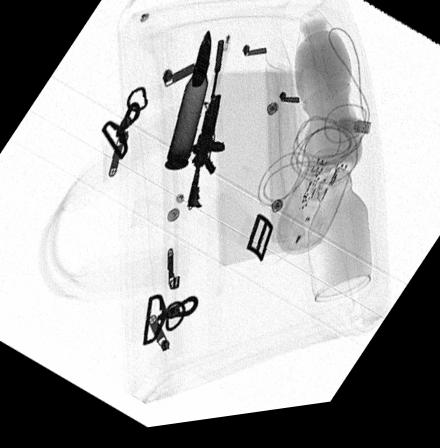Bullet: (164, 35, 210, 176)
Gun: (185, 48, 224, 214)
